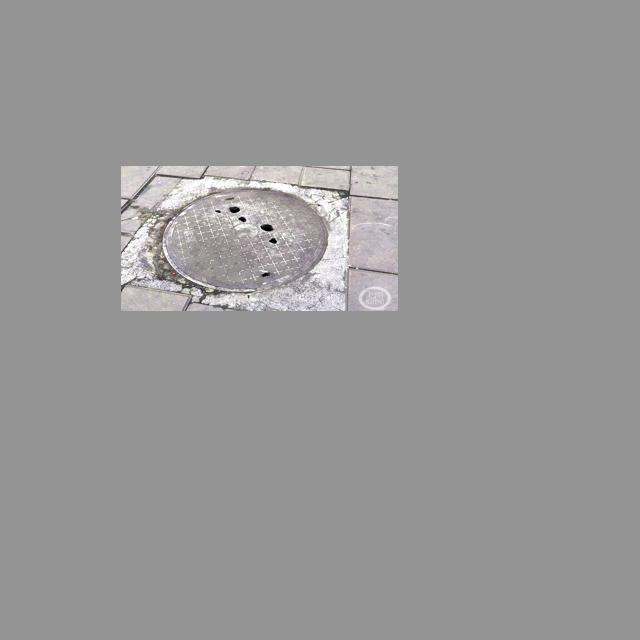circle: (127, 174, 355, 307)
